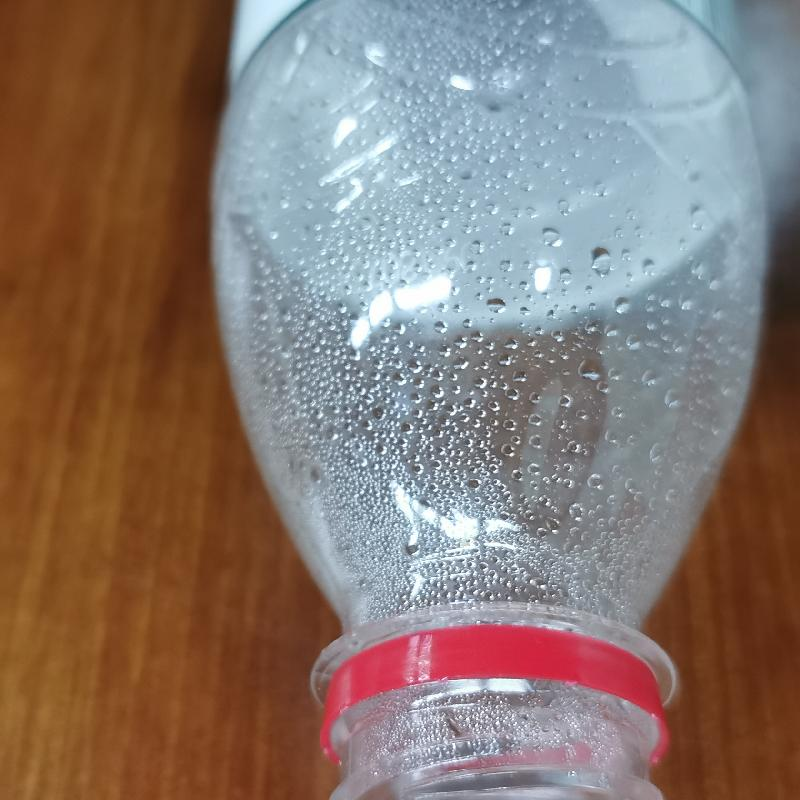bottles: (203, 3, 773, 799)
